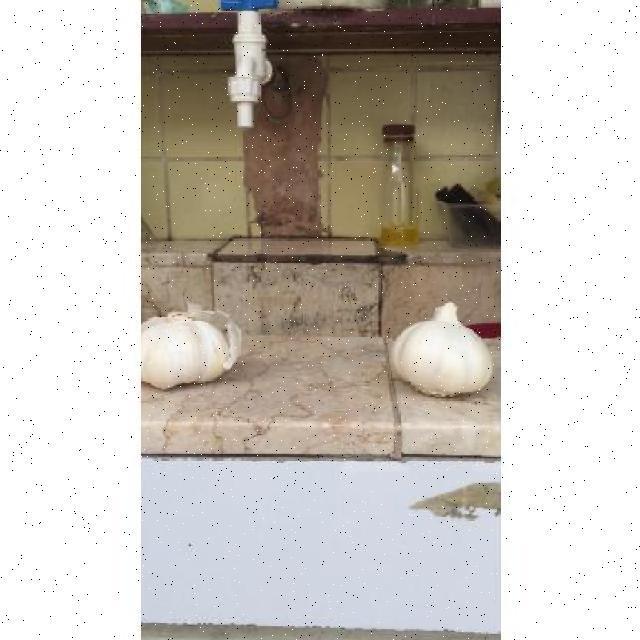garlic: (390, 301, 492, 396), (142, 310, 241, 389)
